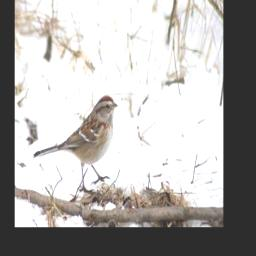Sparrow: (33, 91, 121, 197)
